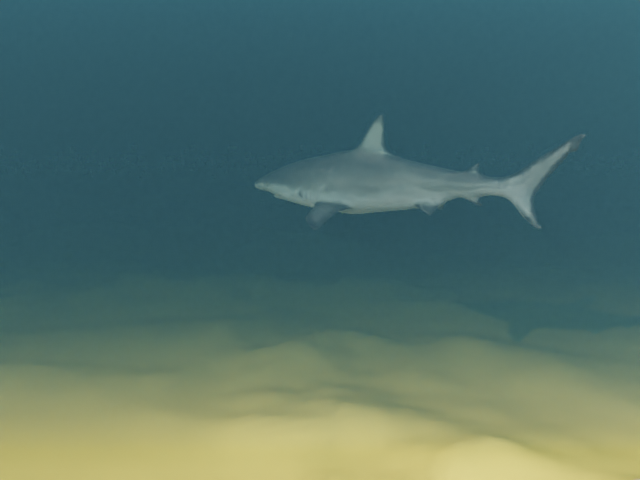Carribean Shark.001: (254, 114, 586, 229)
